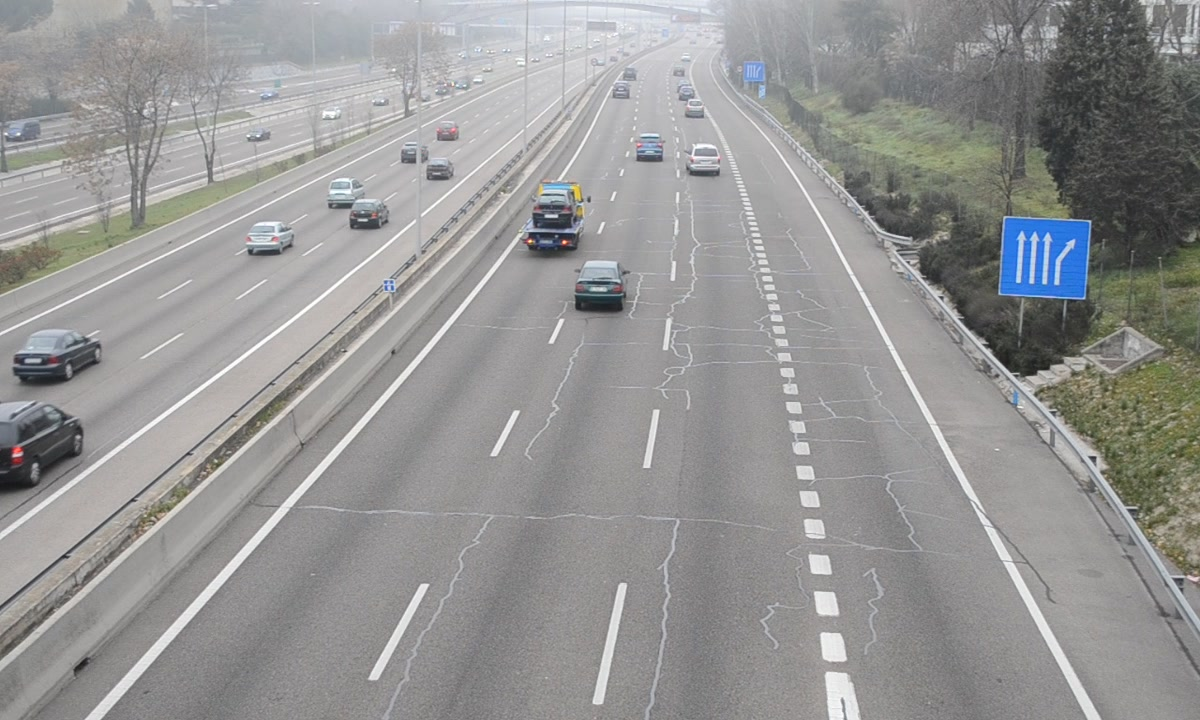car: (573, 261, 627, 308), (685, 143, 722, 174), (634, 133, 665, 161)
small-truck: (520, 182, 586, 252)
